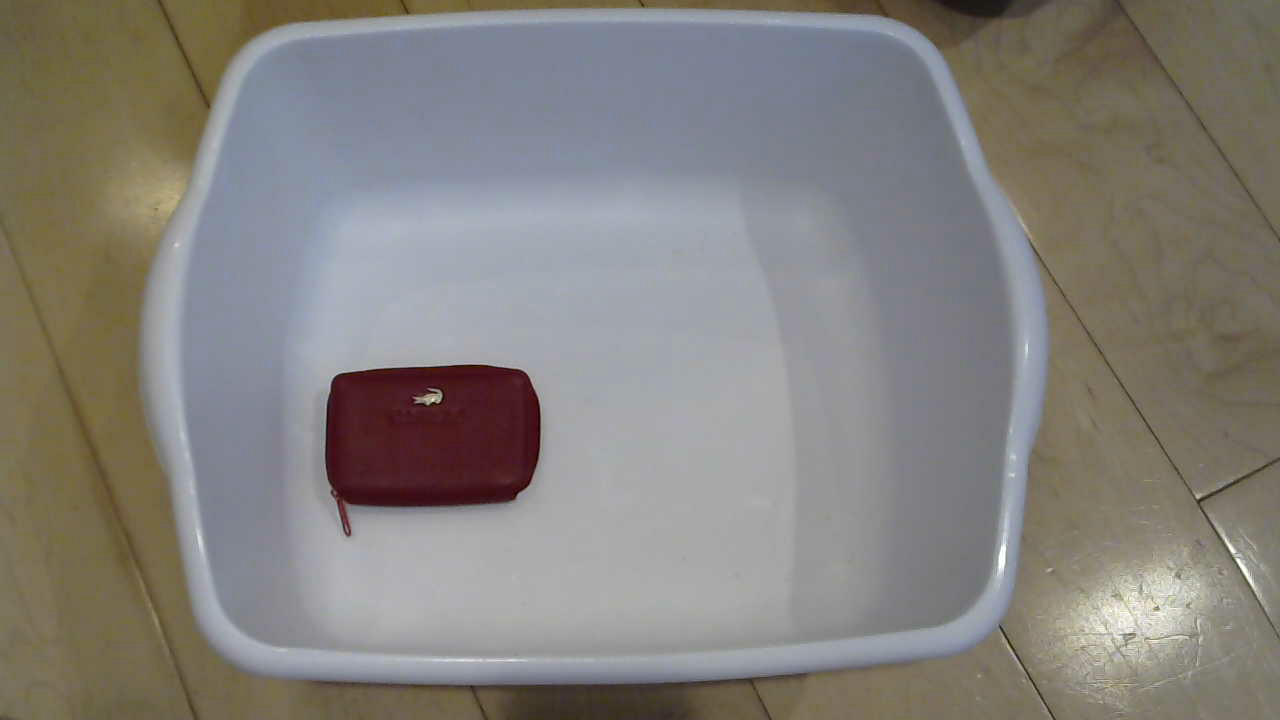wallet: (311, 355, 568, 547)
